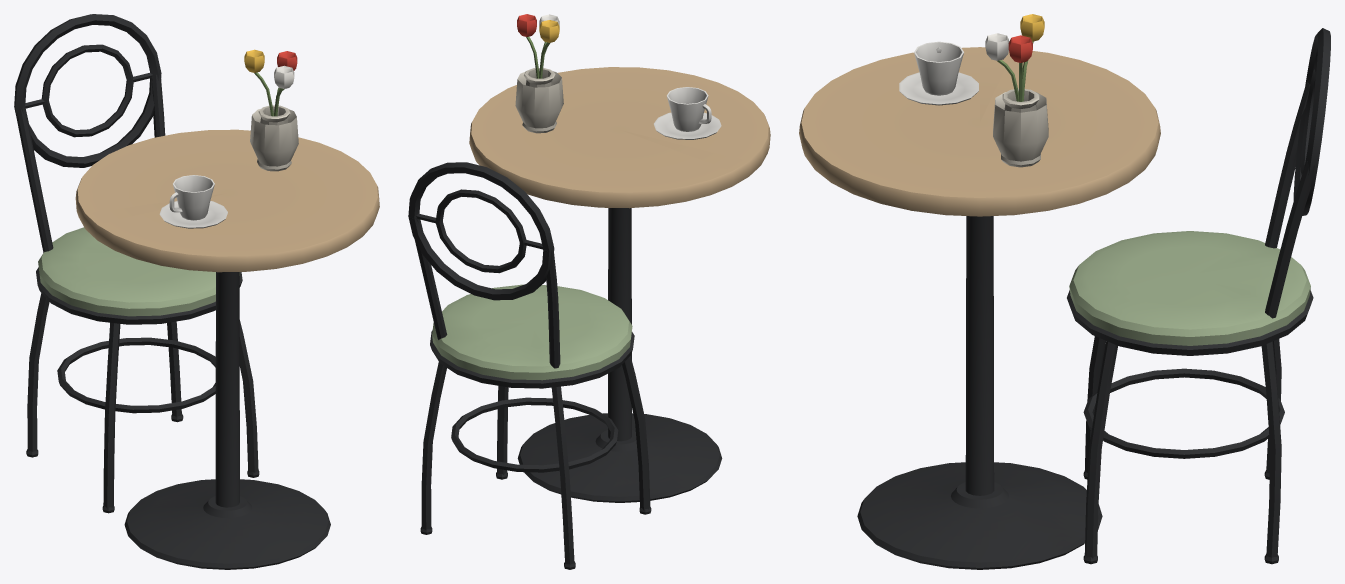
Rendered from bistroSet.glb.
The picture shows the model from 3 angles, left to right: view 1: azimuth 30°, elevation 25°; view 2: azimuth 150°, elevation 25°; view 3: azimuth 270°, elevation 25°; orthographic projection. The views are drawn at different scales.
Visible parts, largest first — view 1: bistroSet; view 2: bistroSet; view 3: bistroSet.
Part boxes in pixels (x1,y1,x2,y2): bistroSet: (14,14,379,569); bistroSet: (408,14,770,569); bistroSet: (799,14,1330,569).
Size of the model in its own units: 0.62 by 1 by 0.9113.
